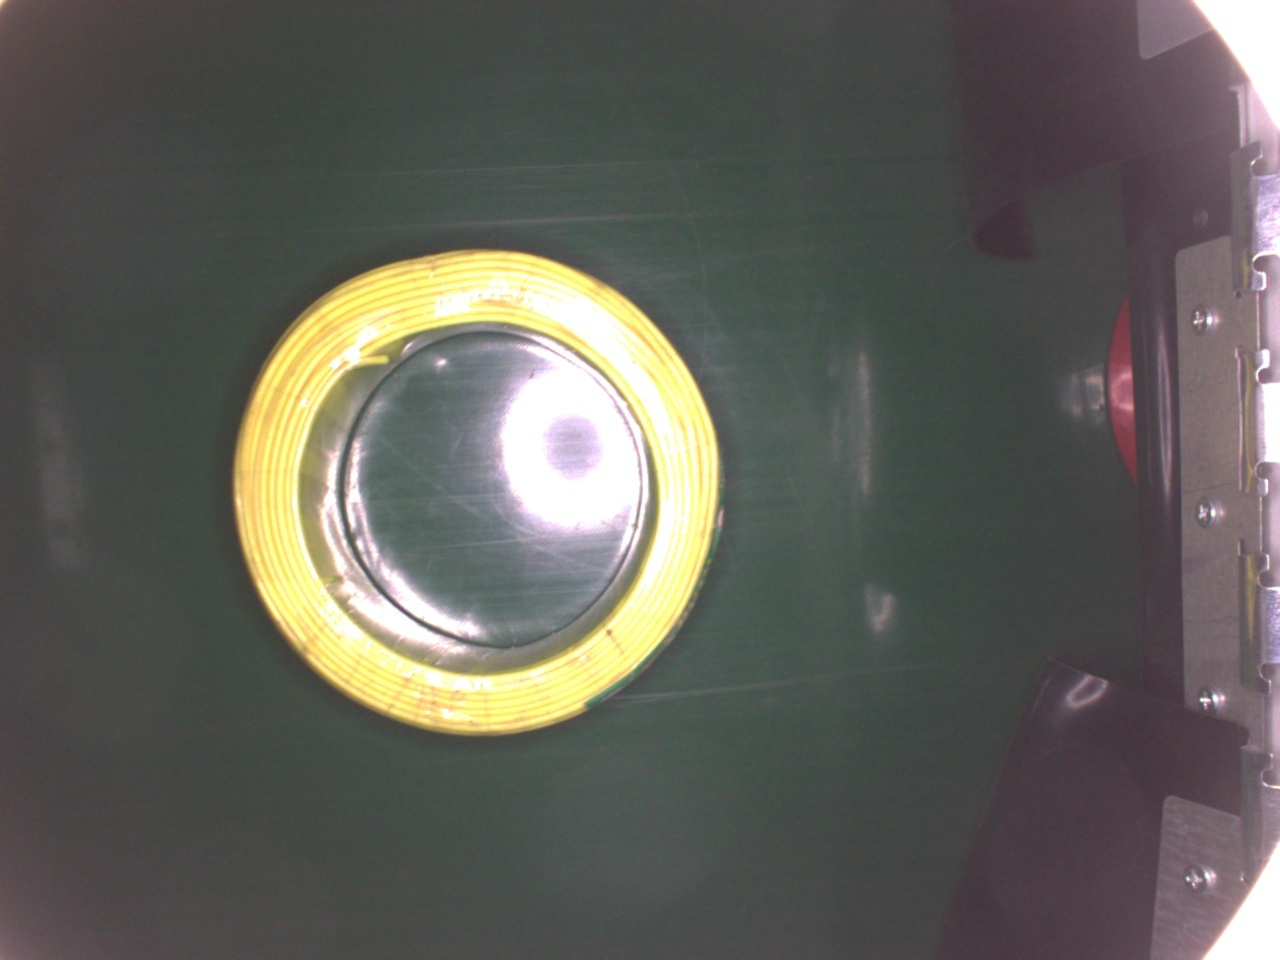yellow: (232, 246, 720, 743)
